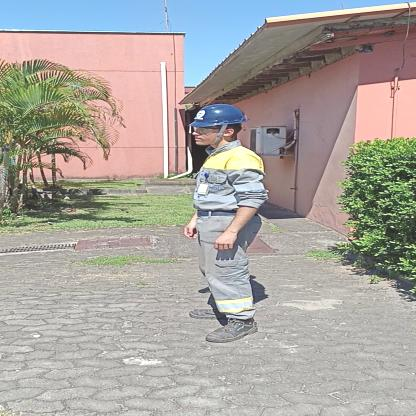Capacete: (189, 104, 250, 127)
